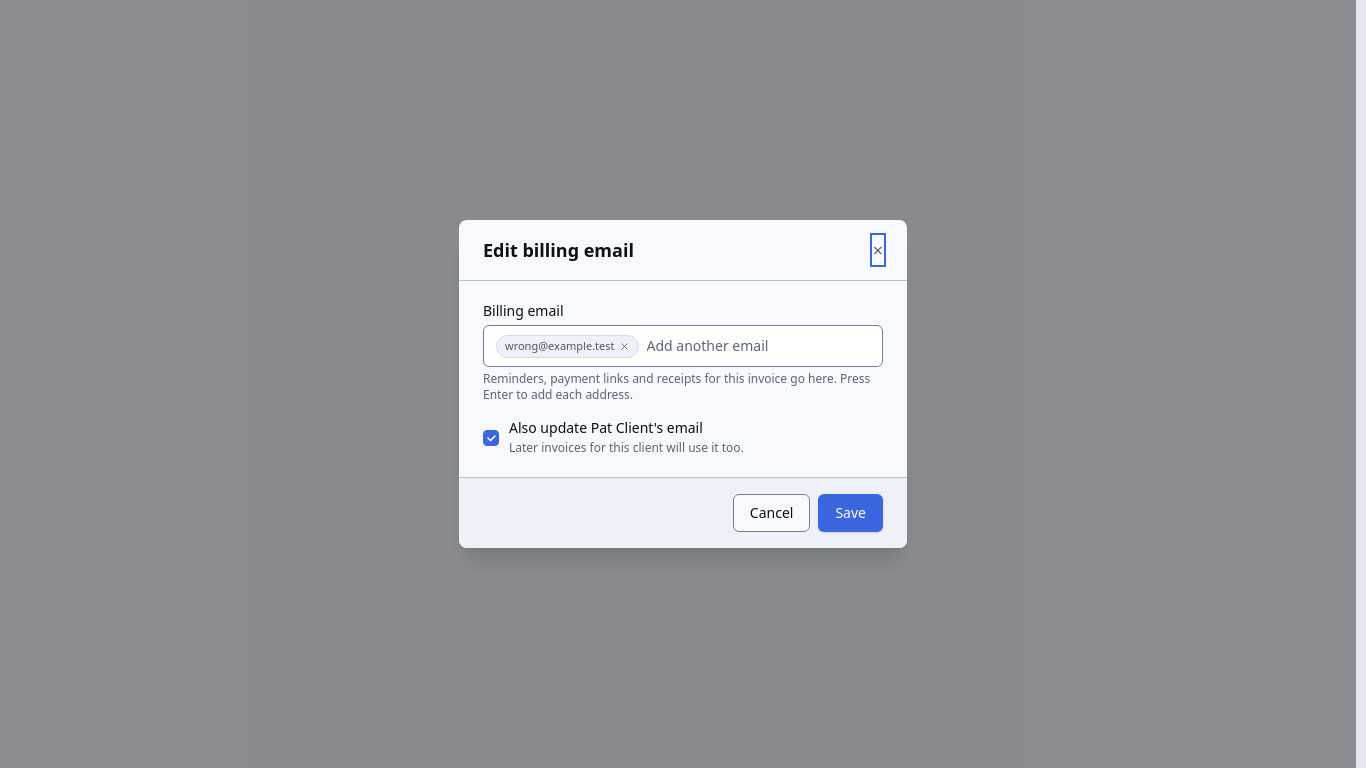
Test case: refuses an address that is not an email, without asking the server
Step 1. Click the button named "Remove wrong@example.test" → coordinates (624, 346), box [618,341,630,352]
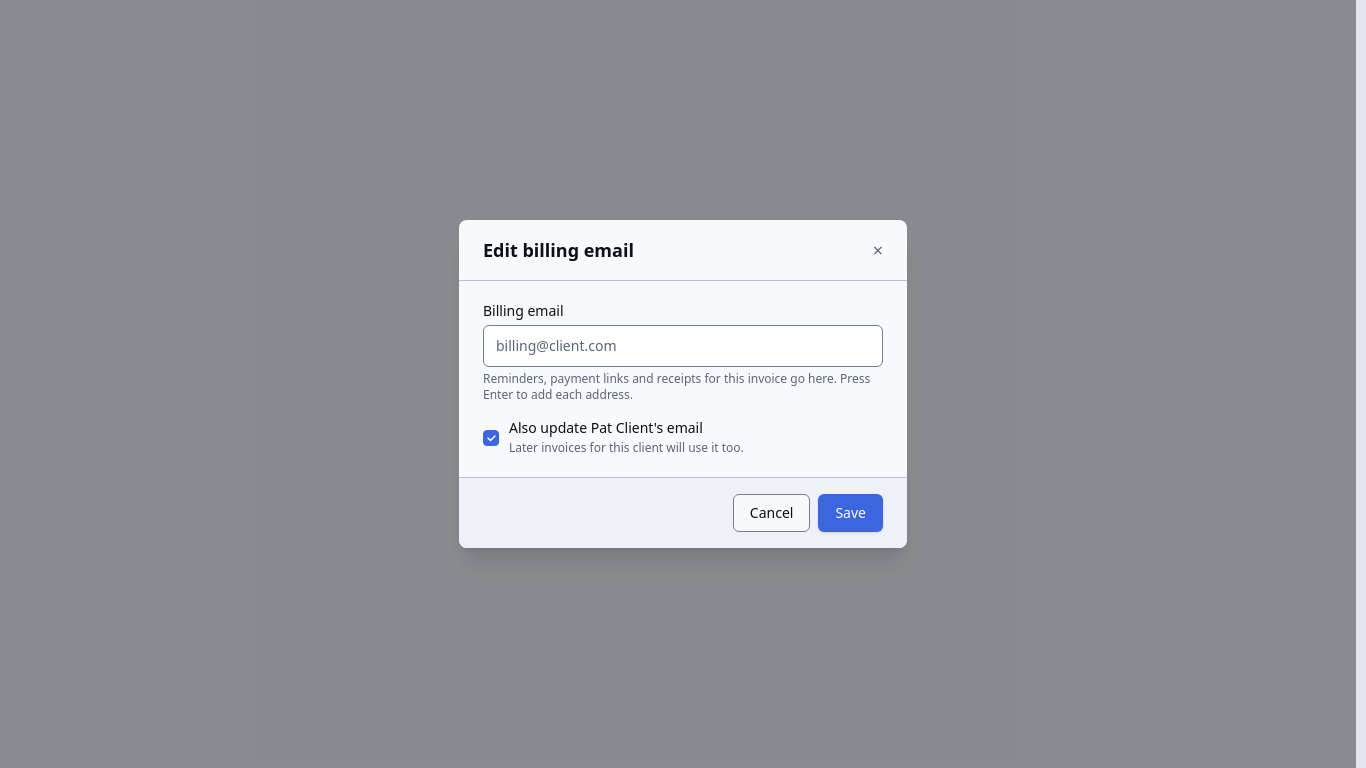
Step 2. Type "not-an-email" into the field labelled "Billing email" → coordinates (683, 346), box [496,334,870,358]
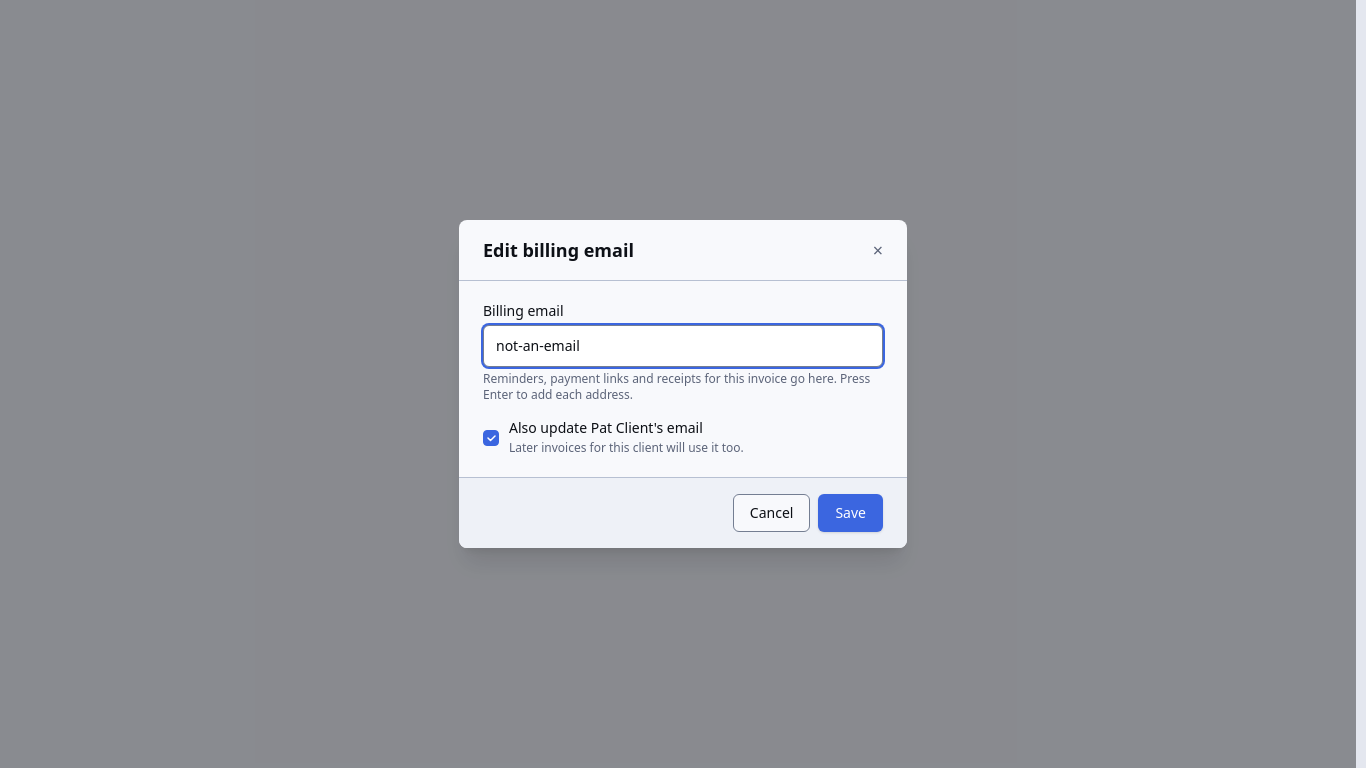
Step 3. Click the button "Save" → coordinates (851, 513), box [818,494,883,532]
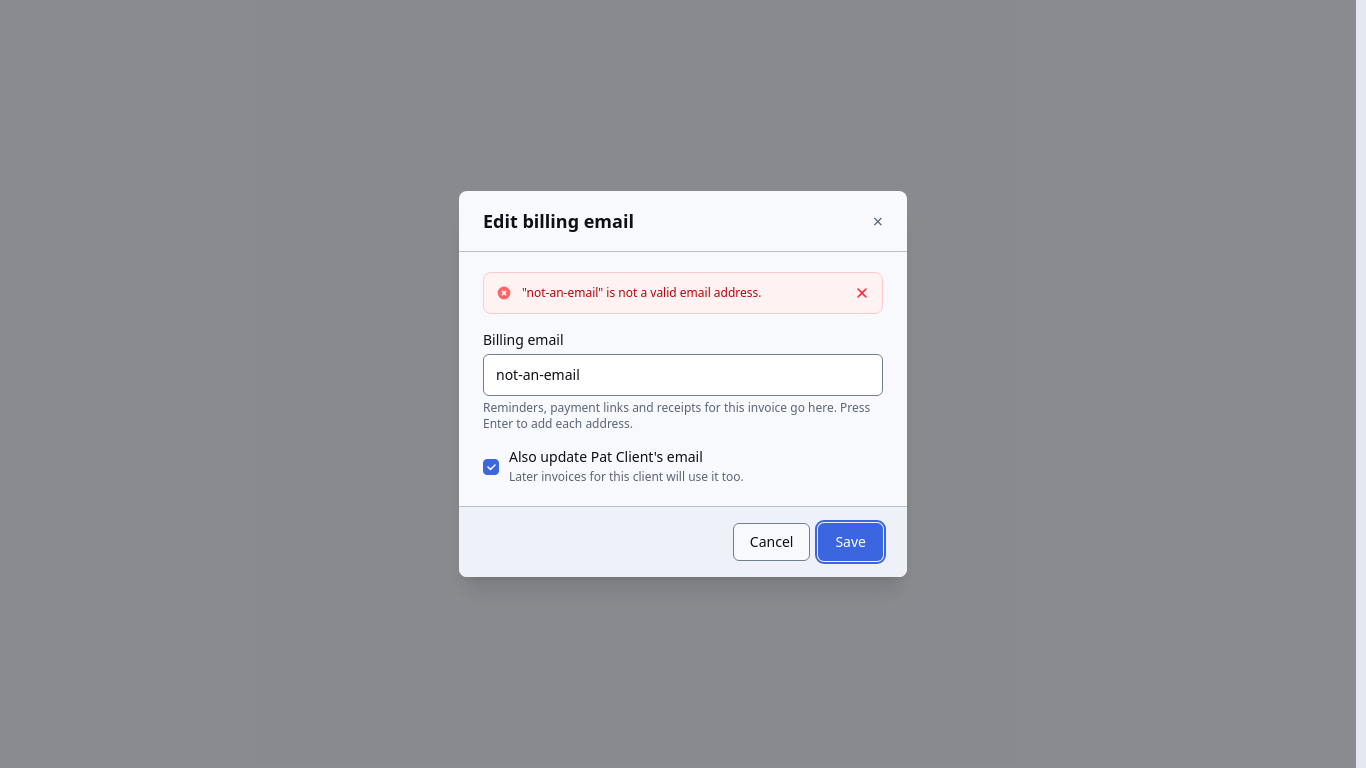
expect the text "\"not-an-email\" is not a valid email address." is shown: met, box [522,284,762,301]
